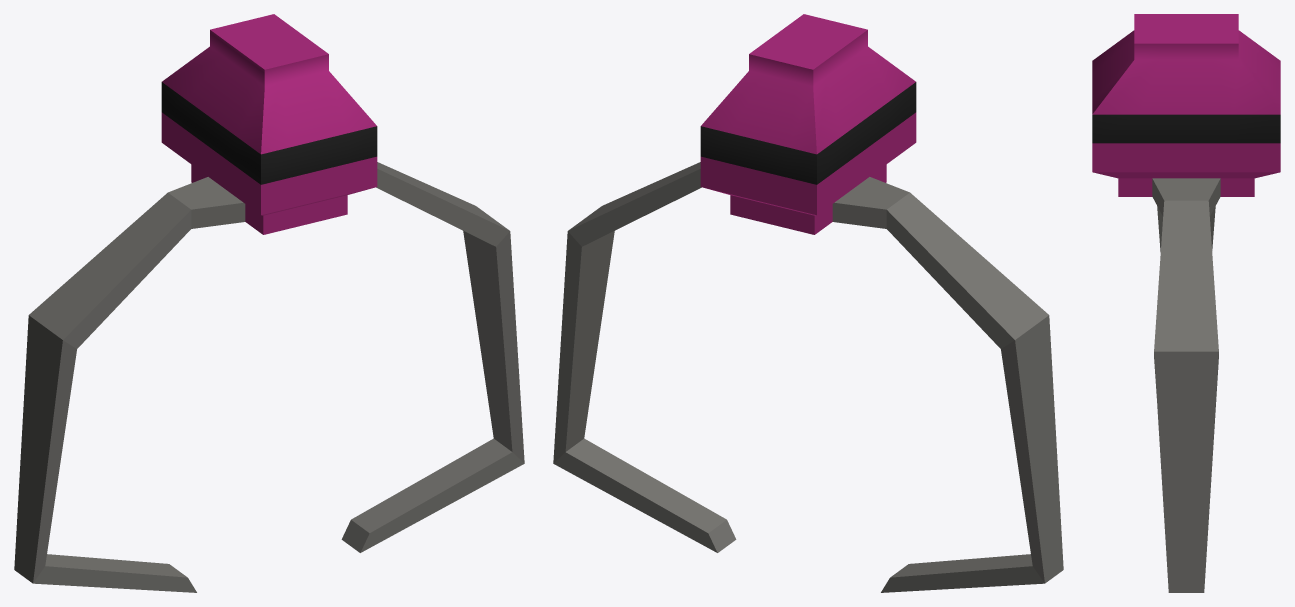
The model's file is CraneClaw.fbx.
3 renders of one model, left to right at view 1: azimuth 30°, elevation 25°; view 2: azimuth 150°, elevation 25°; view 3: azimuth 270°, elevation 25°, orthographic. The views are drawn at different scales.
Visible parts, largest first — view 1: pCube1; view 2: pCube1; view 3: pCube1.
Boxes of the visible parts, x1,y1,x2,y2 form: pCube1: (14, 14, 524, 592); pCube1: (553, 14, 1063, 592); pCube1: (1092, 14, 1280, 592).
Size of the model in its own units: 5.02 by 5.12 by 1.76.
